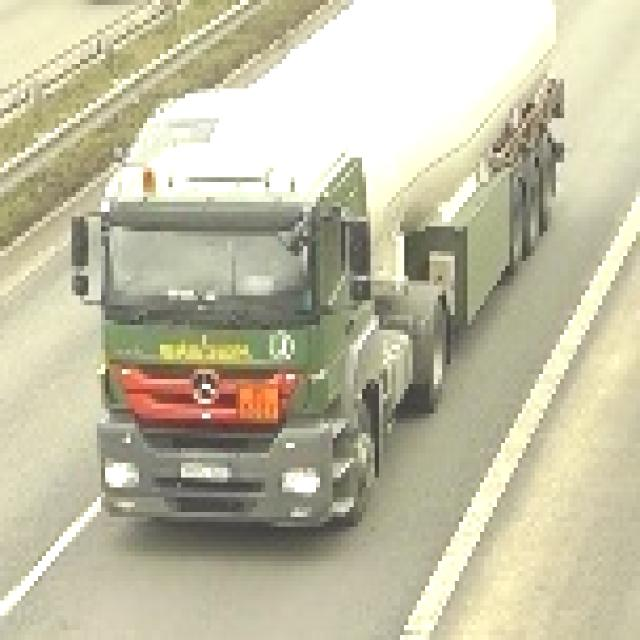TRUCK: (78, 0, 567, 534)
